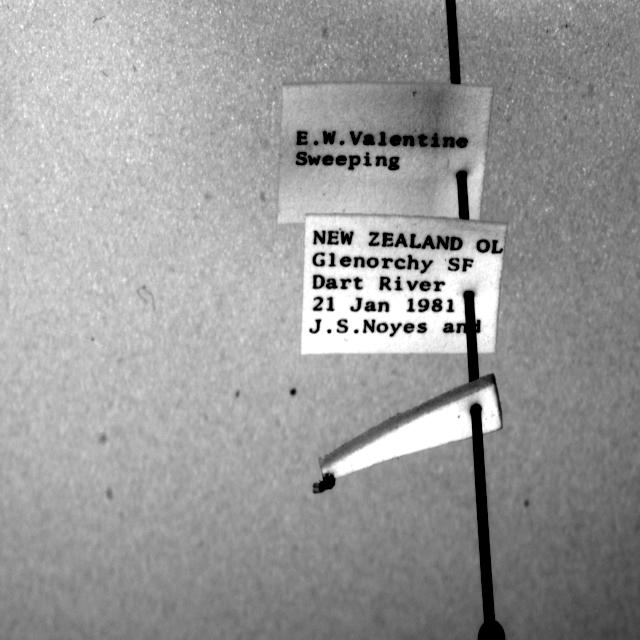typed_label: (278, 82, 492, 223), (301, 216, 506, 354)
